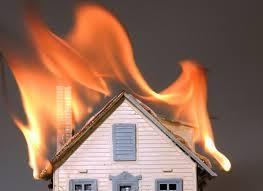fire: (145, 58, 231, 167)
